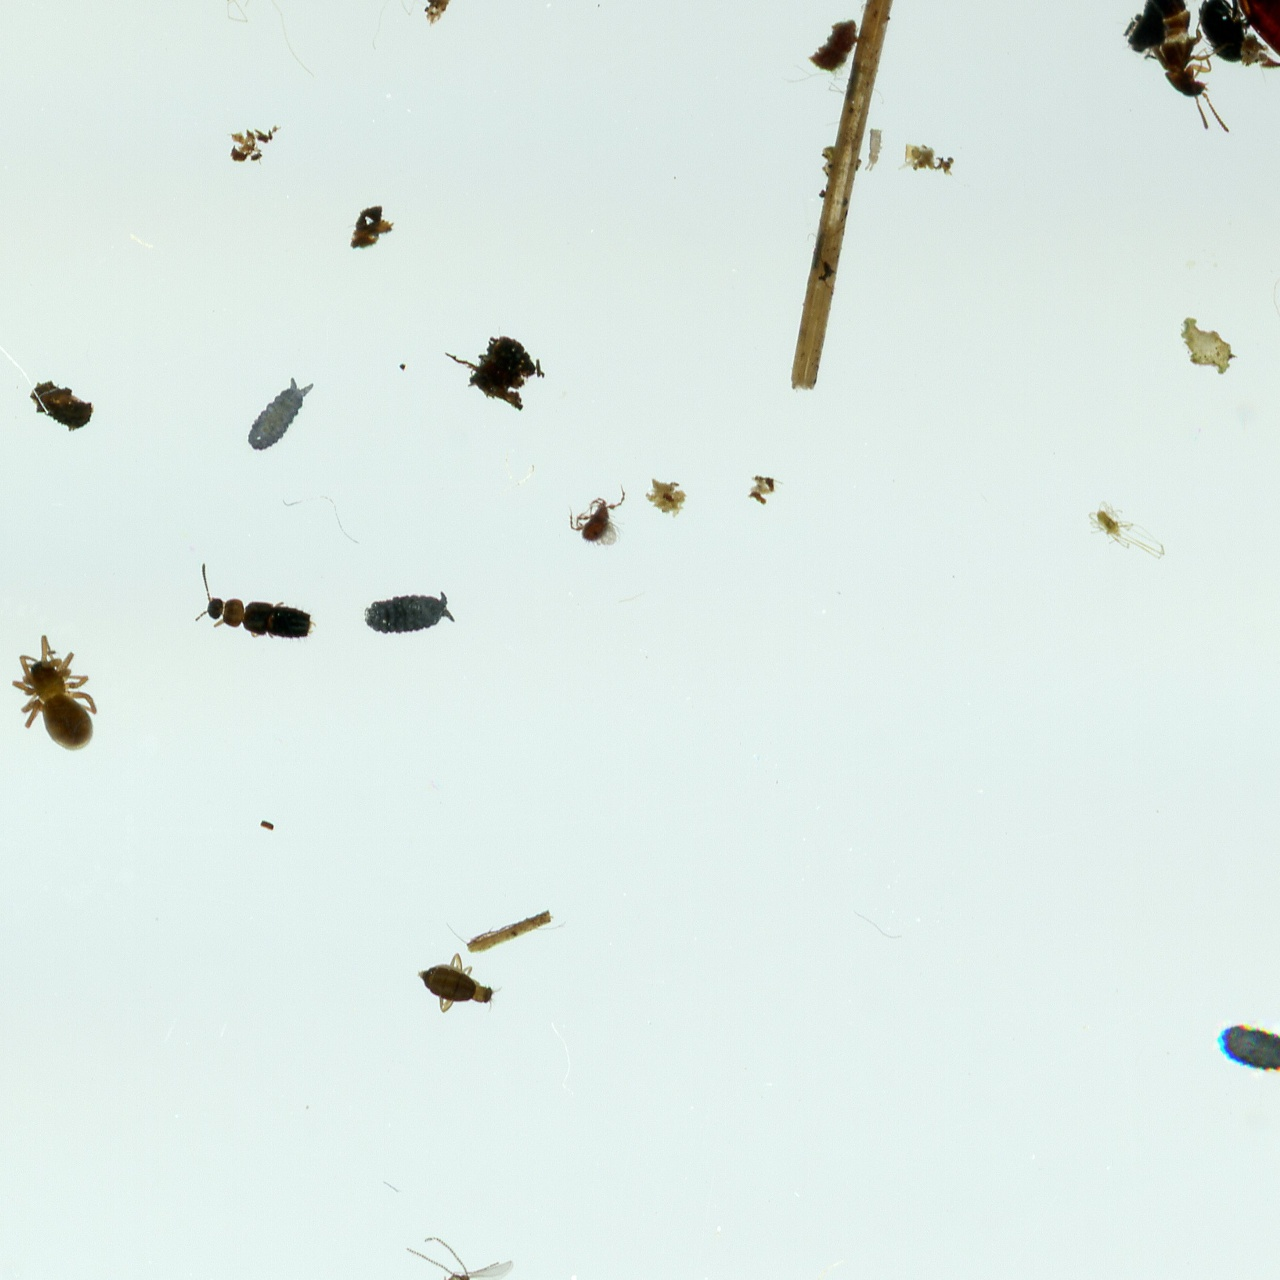arthropod: (1114, 0, 1231, 134), (184, 0, 316, 77), (13, 634, 97, 751), (195, 561, 316, 640), (400, 1234, 515, 1280), (1087, 497, 1167, 561), (417, 953, 501, 1015), (247, 376, 314, 451), (1234, 0, 1280, 93), (363, 593, 456, 634), (370, 0, 438, 52), (570, 485, 626, 547), (1218, 1022, 1280, 1077), (1198, 0, 1248, 63), (864, 128, 884, 170)
